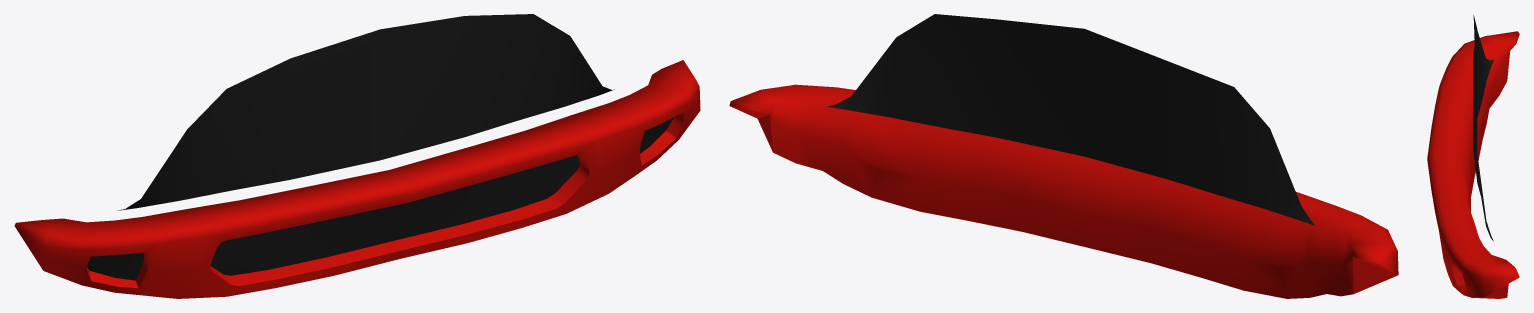
The model's file is Classic_2_Bumper_F_2.fbx.
3 views of the same model, side by side, from view 1: azimuth 30°, elevation 25°; view 2: azimuth 150°, elevation 25°; view 3: azimuth 270°, elevation 25° (orthographic). The views are drawn at different scales.
Parts seen in each view (by area): view 1: Classic_2_Bumper_F_2; view 2: Classic_2_Bumper_F_2; view 3: Classic_2_Bumper_F_2.
Part boxes in pixels (box(x1,y1,x2,y2)): Classic_2_Bumper_F_2: box(14, 14, 700, 298); Classic_2_Bumper_F_2: box(729, 14, 1398, 298); Classic_2_Bumper_F_2: box(1427, 15, 1519, 298).
Size of the model in its own units: 309 by 99.56 by 49.7.
